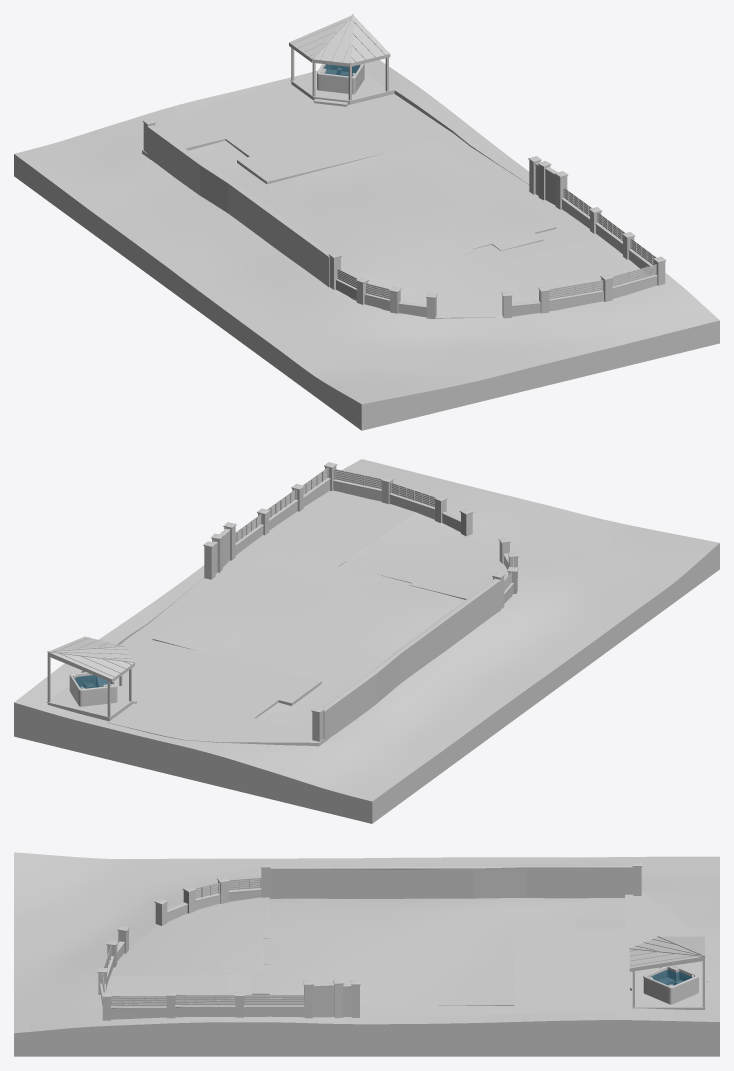
The model's file is SK02__TrueVision__MainBuildingModel__Proposed__MeshModel__.glb.
The picture shows the model from 3 angles, top to bottom: view 1: azimuth 30°, elevation 25°; view 2: azimuth 150°, elevation 25°; view 3: azimuth 270°, elevation 25°; orthographic projection.
Parts seen in each view (by area): view 1: 20__ProposedBuilding::Default, 28__ProposedBuilding__Furniture::Default; view 2: 20__ProposedBuilding::Default, 28__ProposedBuilding__Furniture::Default; view 3: 20__ProposedBuilding::Default, 28__ProposedBuilding__Furniture::Default, 28__ProposedBuilding__Furniture::MAT150__Water__ClearDefault.
Part boxes in pixels (box(x1,y1,x2,y2)): 20__ProposedBuilding::Default: box(14, 14, 719, 430); 28__ProposedBuilding__Furniture::Default: box(317, 63, 364, 94); 20__ProposedBuilding::Default: box(14, 459, 719, 823); 28__ProposedBuilding__Furniture::Default: box(69, 672, 117, 706); 20__ProposedBuilding::Default: box(14, 852, 719, 1056); 28__ProposedBuilding__Furniture::Default: box(643, 965, 698, 1004); 28__ProposedBuilding__Furniture::MAT150__Water__ClearDefault: box(651, 969, 691, 985).
Bounding box in the file's own units: 22 × 5.07 × 37.
Materials: 2 (1 with a texture image).
